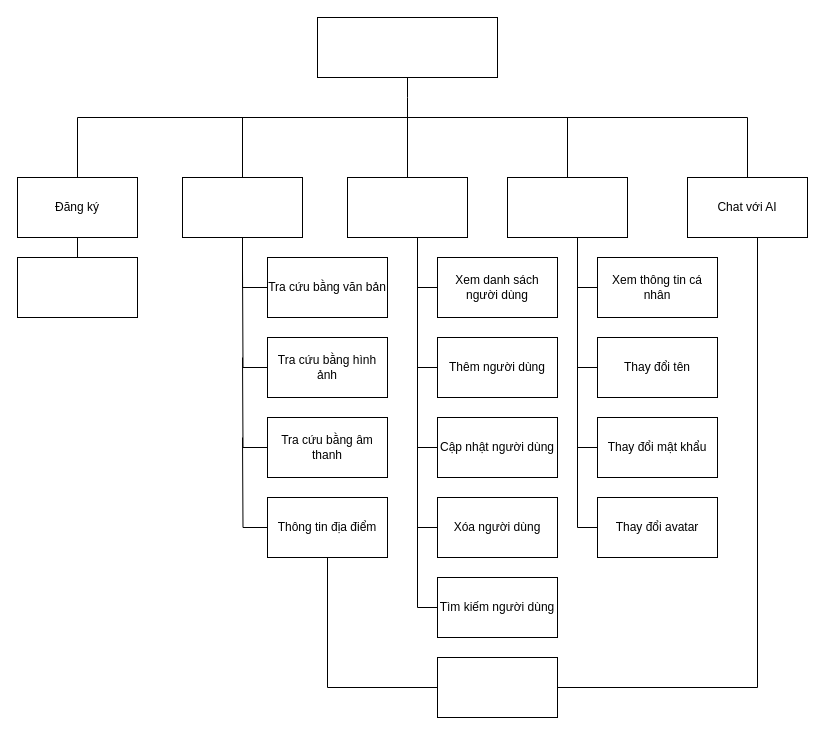
Some shapes in this 825 by 735 pixel diagram are drawn without their labels. The shapes that lost their labels are listed below. From the top down, each one's centre as x and y in pixels, then its label:
the point at 407,47: Ứng dụng du lịch thông minh
the point at 242,207: Tra cứu địa điểm
the point at 407,207: Quản lý người dùng
the point at 567,207: Xem hồ sơ cá nhân
the point at 77,287: Đăng nhập
the point at 497,687: Tạo lịch trình du lịch
